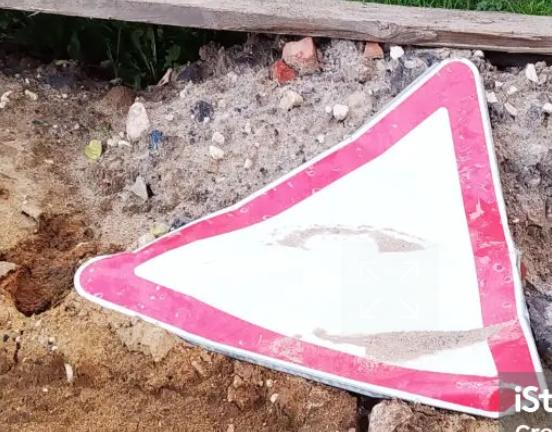obstructed_road_sign: (74, 59, 551, 417)
